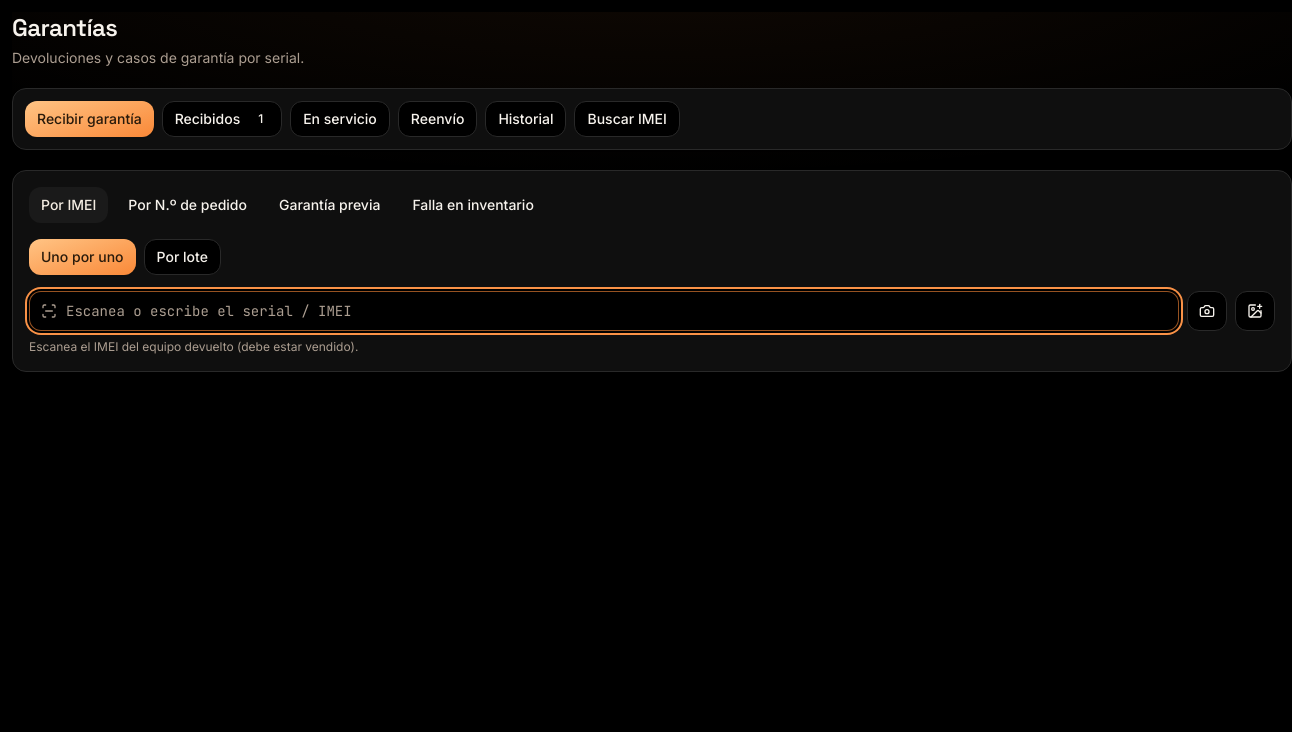
Test: Garantía previa · celular apagado, sin IMEI legible › no repite un código ya usado por otra garantía previa abierta
Click the button "Garantía previa": x=330, y=205 [267, 187, 392, 223]
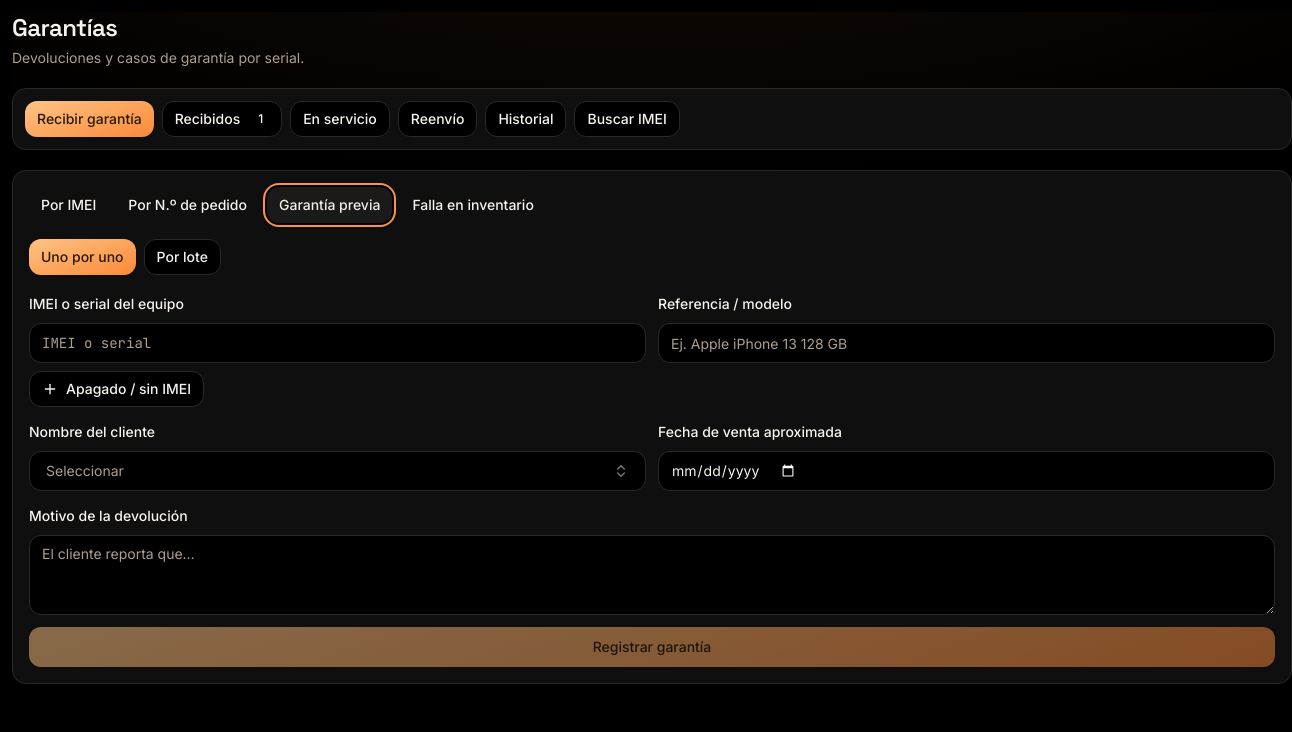
Click the button "Apagado / sin IMEI": x=117, y=389 [29, 371, 204, 407]
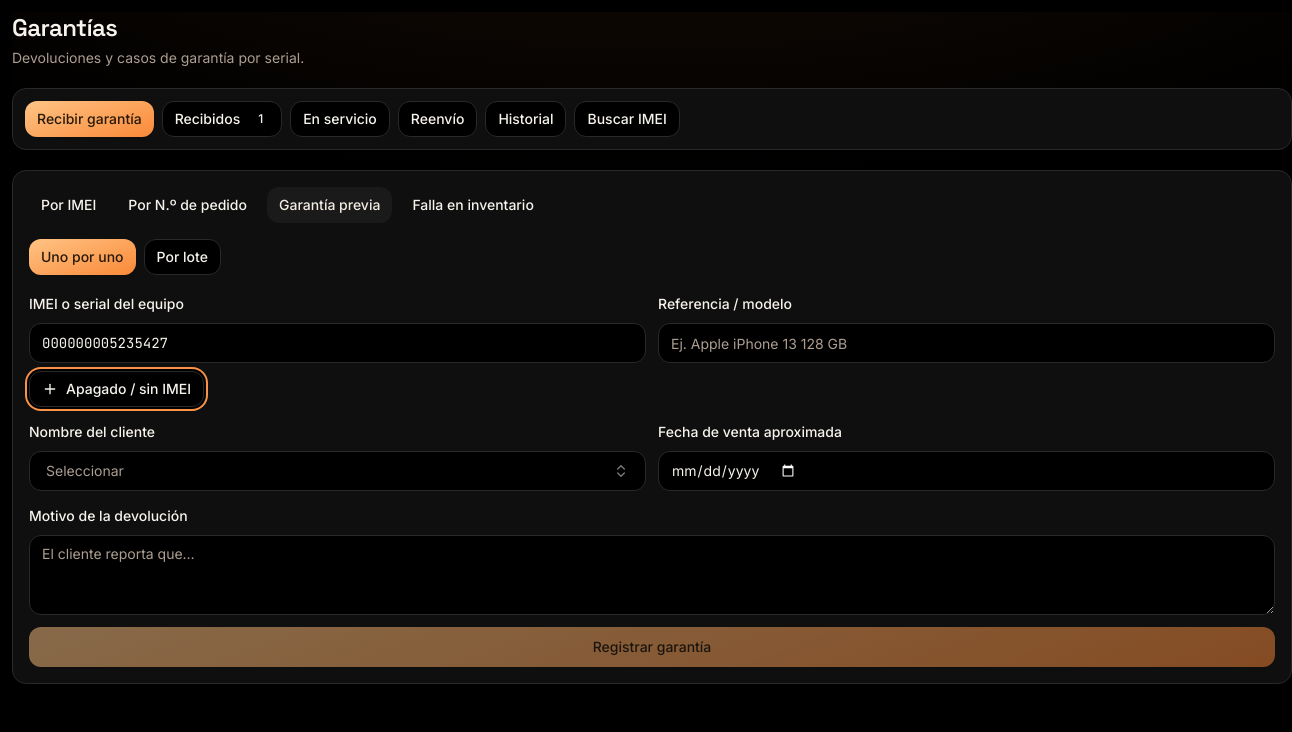
Expected: the field with placeholder "IMEI o serial" does not hold "000000001112223", [29, 323, 646, 363]
